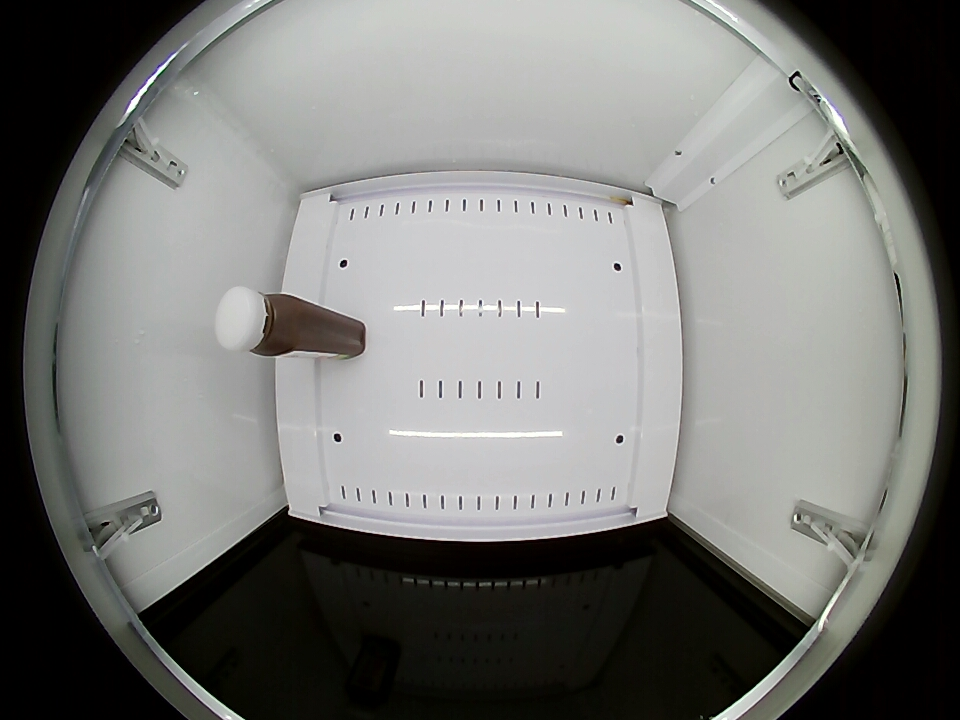youyanggudong: (215, 287, 304, 357)
